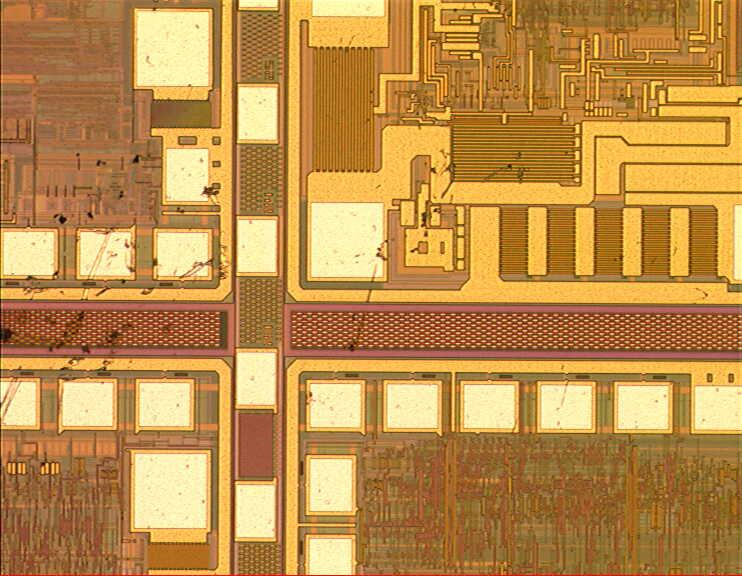SCRATCH: (1, 131, 686, 427)
